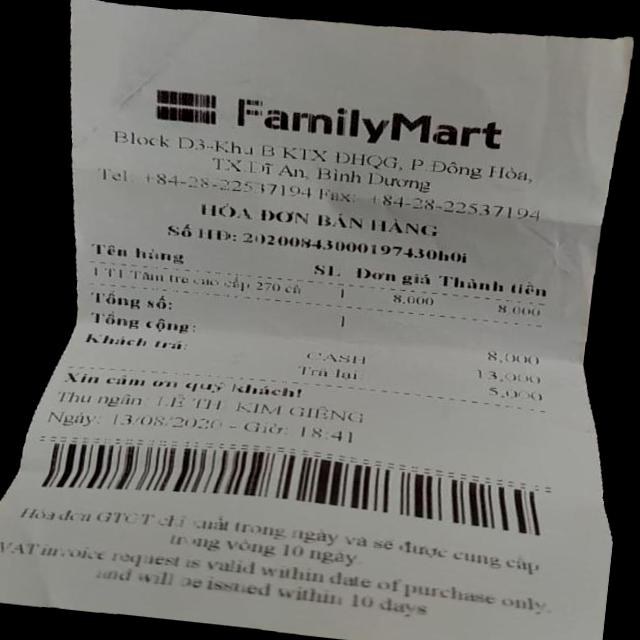Date: (107, 404, 227, 435)
Store_Name: (135, 76, 524, 163)
amount_number: (479, 347, 544, 368)
label_total: (86, 306, 202, 336)
